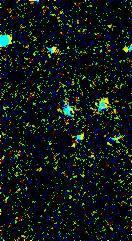star: (110, 33, 132, 63)
